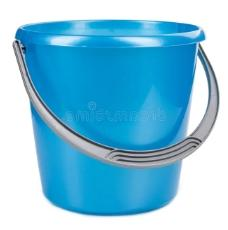SEAU: (3, 18, 222, 219)
